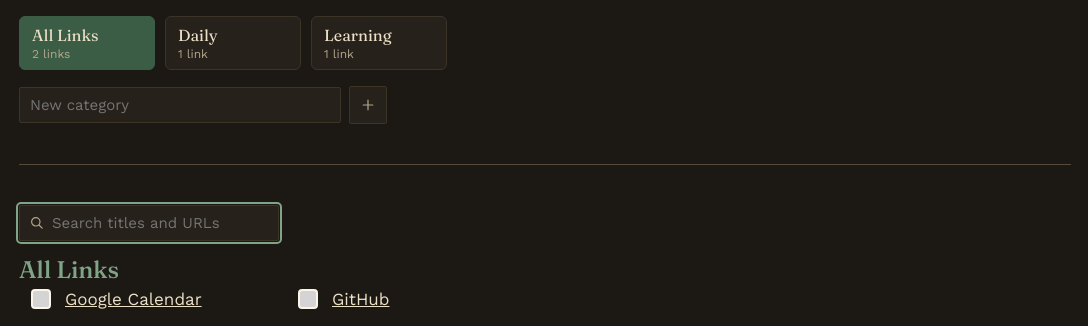
Test: UserFavorites: categories › creates a category and shows its card
The width and height of the screenshot is (1088, 326).
Type "Tools" into the field with placeholder "New category".
click(180, 105); type("Tools")  # box [19,87,341,123]
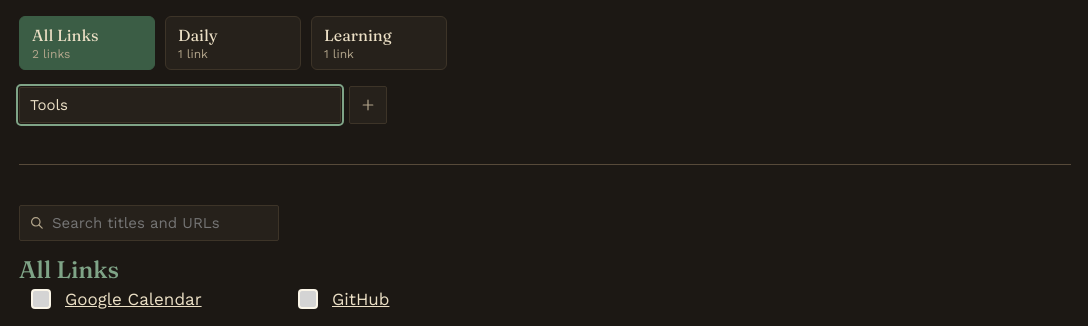
Click the button named "Add category".
click(368, 105)  # box [349,86,387,124]
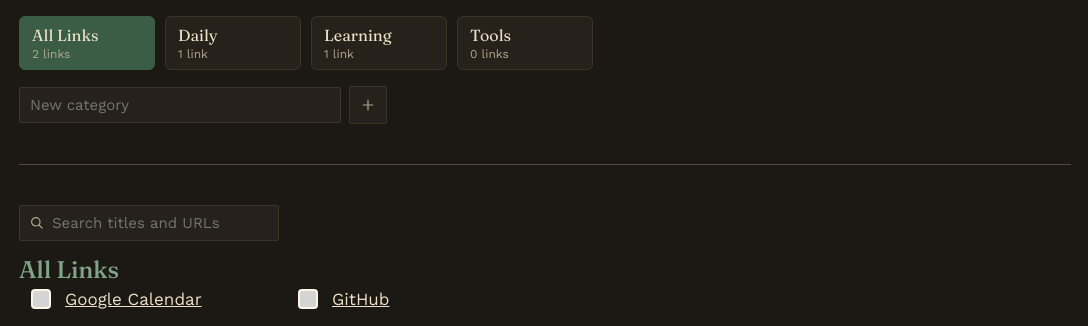
expect the button "Tools 0 links" is shown: met, box [457,16,593,70]
expect the field with placeholder "New category" is empty: met, box [19,87,341,123]
